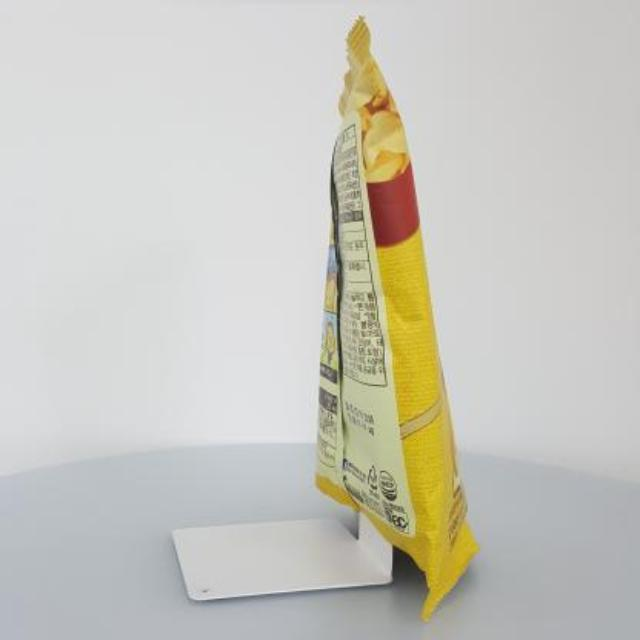snack_bag: (295, 15, 495, 625)
